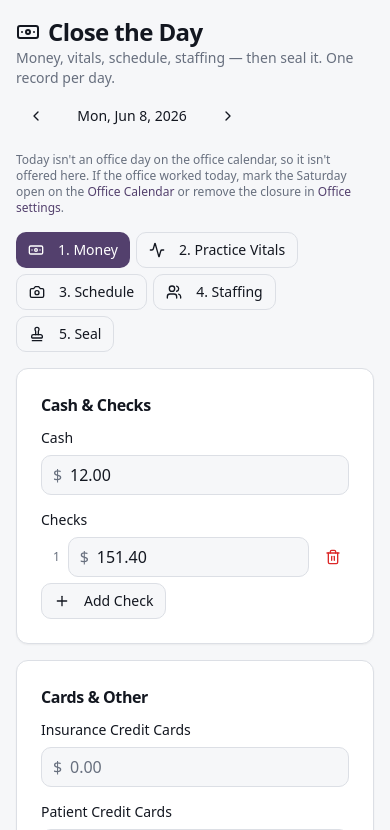
Test: Office days › skips a full-day closure and offers a Saturday marked open
Click the button named "Previous office day". click: (36, 116)
box: [16,96,56,136]
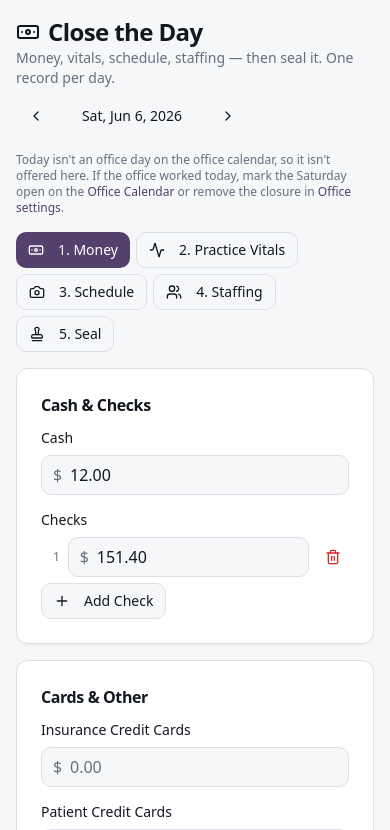
Result: the text "Sat, Jun 6, 2026" is shown at [82,106,182,125]
Click the button named "Previous office day". click: (36, 116)
box: [16,96,56,136]
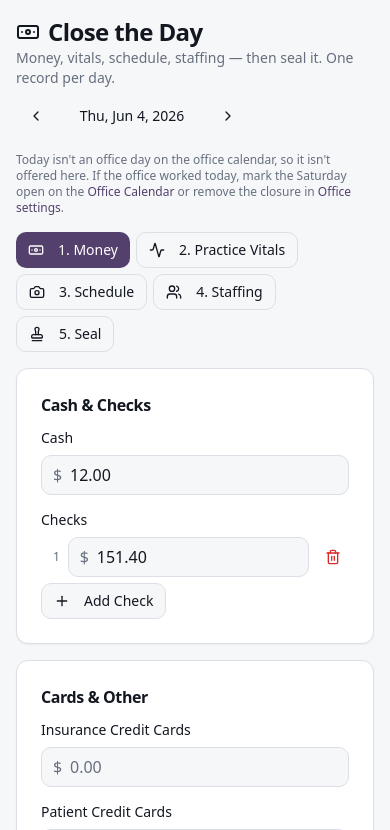
Result: the text "Thu, Jun 4, 2026" is shown at [80,106,184,125]
